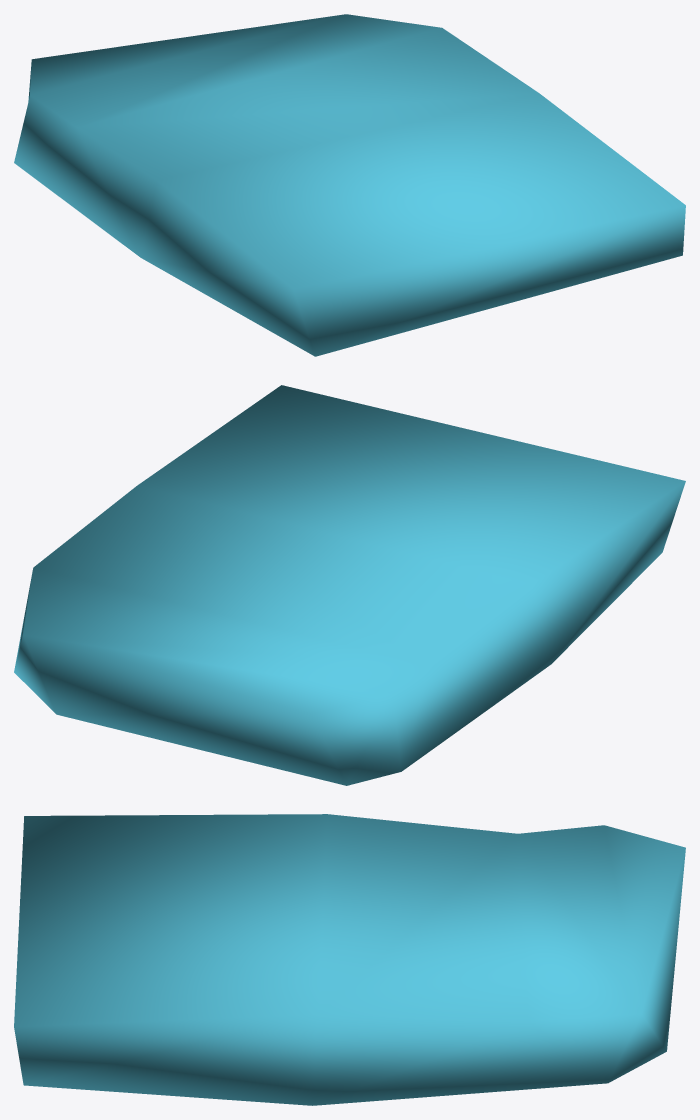
File: brick_12.FBX
The picture shows the model from 3 angles, top to bottom: view 1: azimuth 30°, elevation 25°; view 2: azimuth 150°, elevation 25°; view 3: azimuth 270°, elevation 25°; orthographic projection. The views are drawn at different scales.
Visible parts, largest first — view 1: brick_12; view 2: brick_12; view 3: brick_12.
Boxes of the visible parts, bbox=[...] form: brick_12: bbox=[14, 14, 685, 356]; brick_12: bbox=[14, 385, 685, 785]; brick_12: bbox=[14, 814, 685, 1105].
Bounding box in the file's own units: 18.41 × 3.57 × 24.29.
